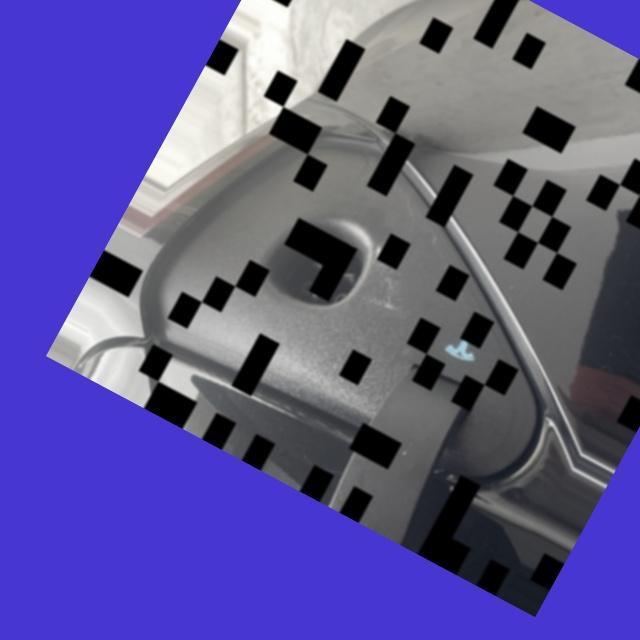Tesla Model-S-: (255, 199, 382, 337)
